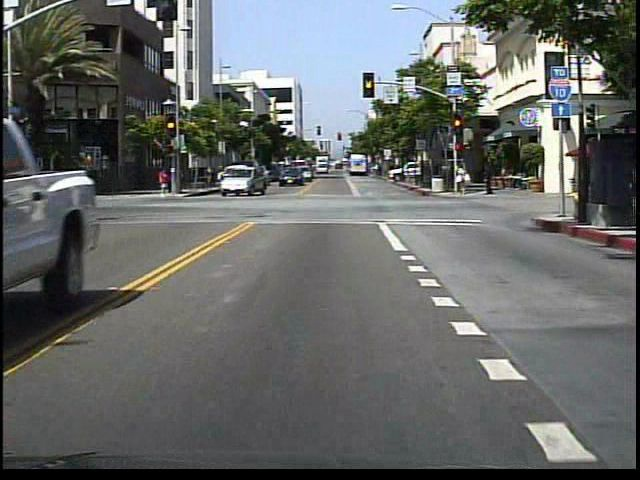person: (455, 159, 471, 198), (481, 160, 495, 197), (158, 165, 174, 196)
